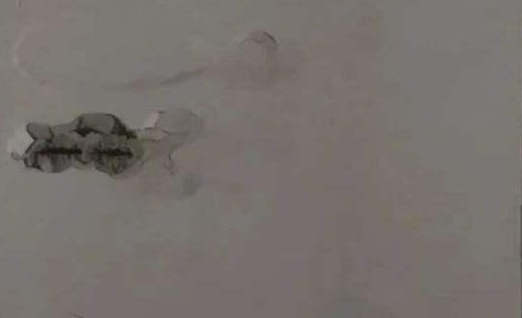Exposed reinforcement: (88, 147, 135, 159), (33, 147, 83, 157), (69, 127, 105, 138)
Spalling: (21, 112, 146, 177)
